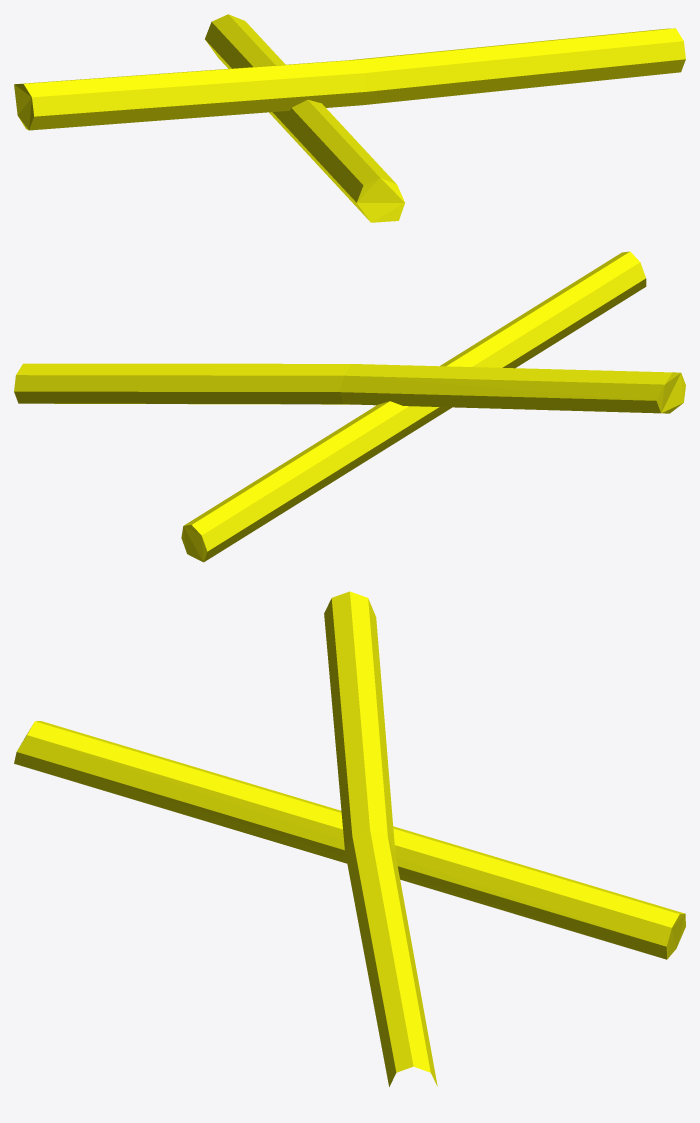
The model's file is camp_woodhut_break04.glb.
3 views of the same model, one above another, from view 1: azimuth 30°, elevation 25°; view 2: azimuth 150°, elevation 25°; view 3: azimuth 270°, elevation 25° (orthographic). The views are drawn at different scales.
Visible parts, largest first — view 1: camp_woodhut_break04; view 2: camp_woodhut_break04; view 3: camp_woodhut_break04.
Part boxes in pixels (bbox=[...]): camp_woodhut_break04: bbox=[14, 14, 685, 222]; camp_woodhut_break04: bbox=[14, 251, 685, 562]; camp_woodhut_break04: bbox=[14, 591, 685, 1086].
Bounding box in the file's own units: 4.95 × 1.23 × 4.13.
1 material, 1 textured.
